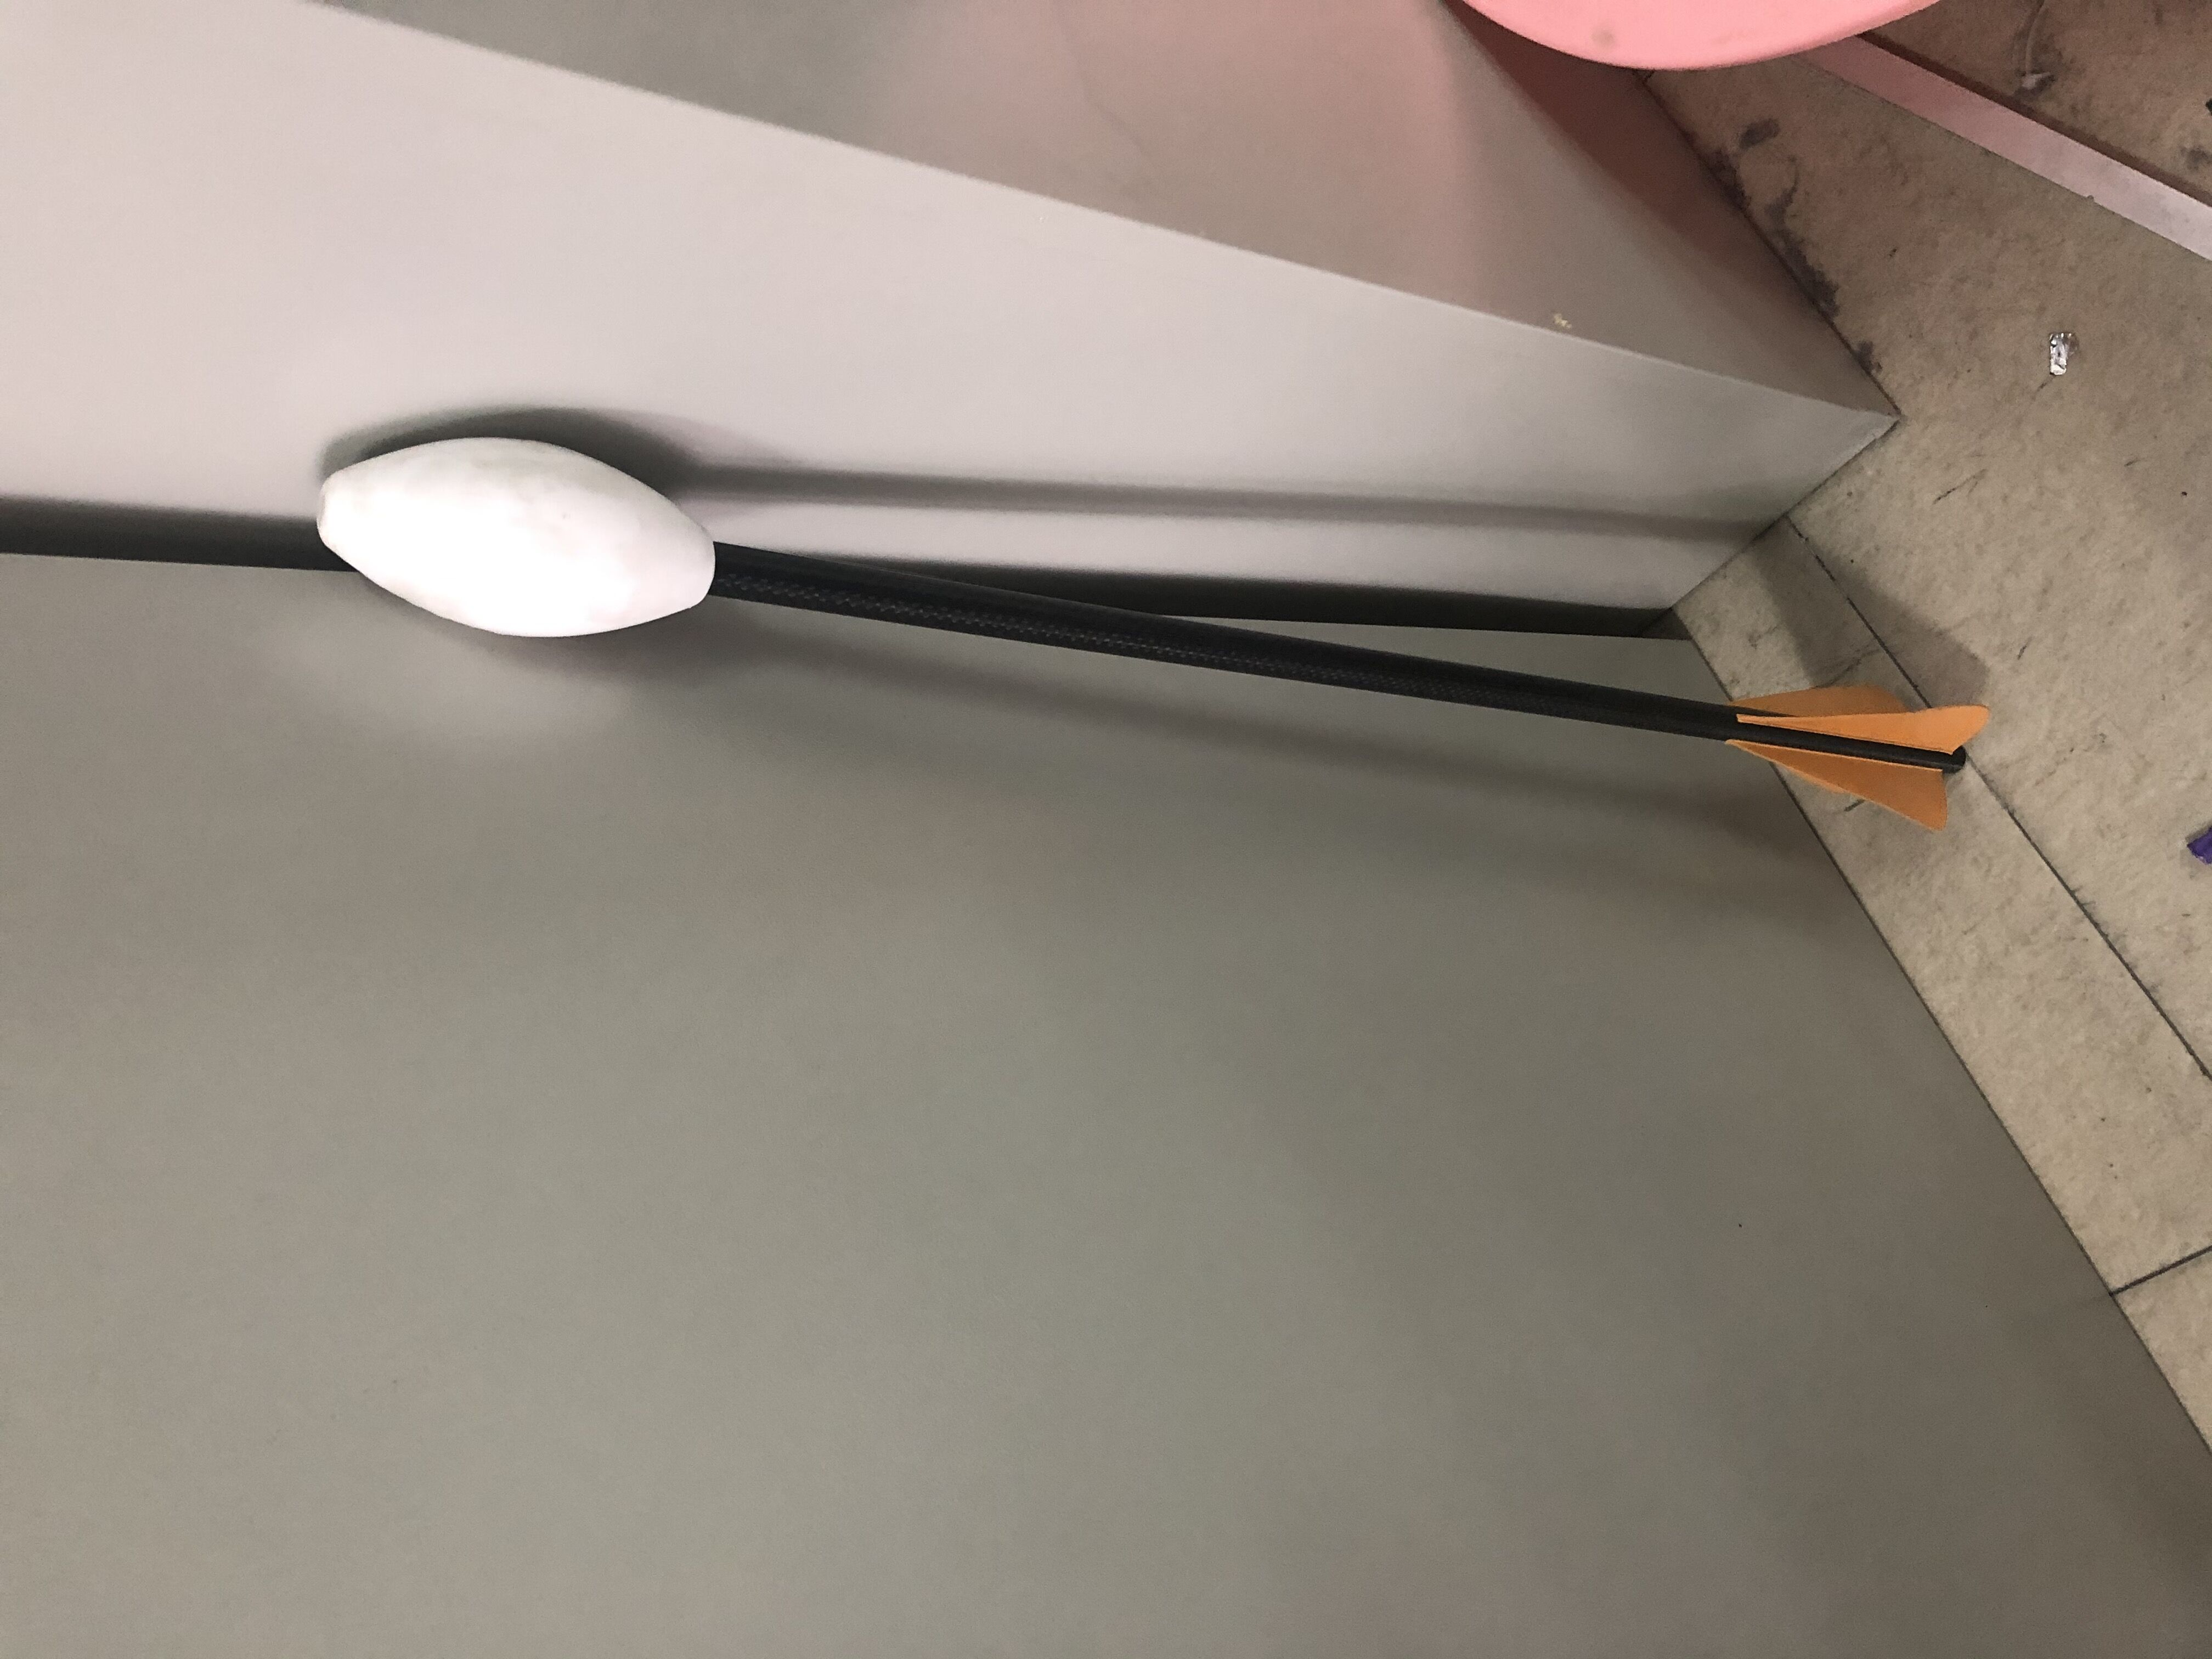arrow: (308, 427, 1996, 838)
arrowFront: (308, 432, 718, 645)
